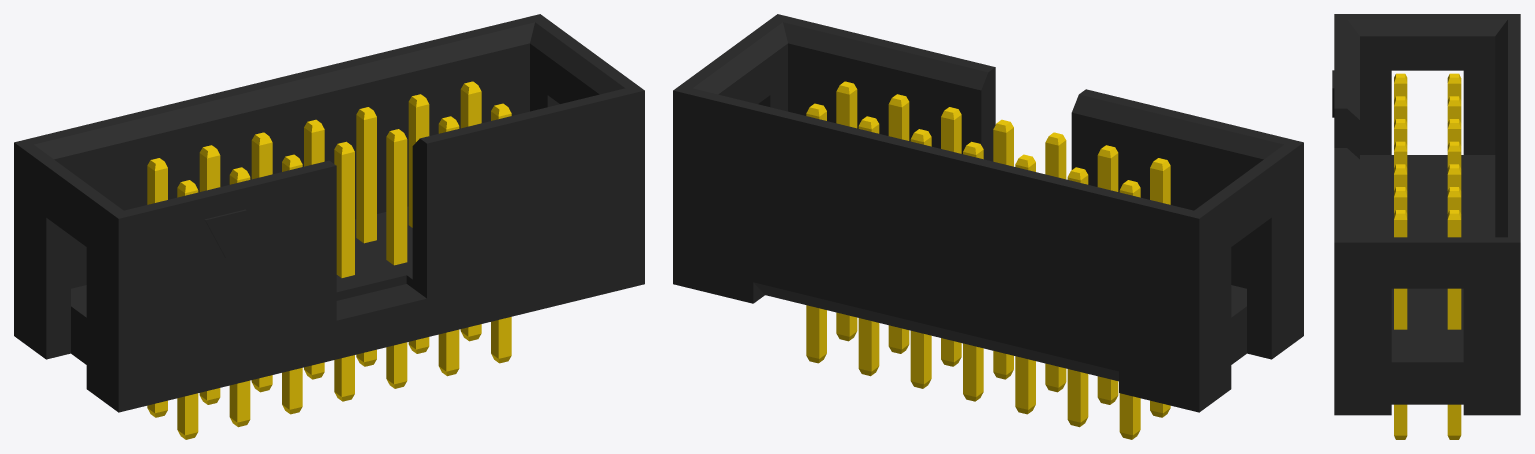
3 renders of one model, left to right at view 1: azimuth 30°, elevation 25°; view 2: azimuth 150°, elevation 25°; view 3: azimuth 270°, elevation 25°, orthographic. The views are drawn at different scales.
Parts seen in each view (by area): view 1: IDC (CONNFLY); view 2: IDC (CONNFLY); view 3: IDC (CONNFLY).
Boxes of the visible parts, x1,y1,x2,y2 form: IDC (CONNFLY): (14,14,644,439); IDC (CONNFLY): (673,14,1303,439); IDC (CONNFLY): (1332,14,1520,439).
Bounding box in the file's own units: 0.0256 × 0.0126 × 0.0089.
